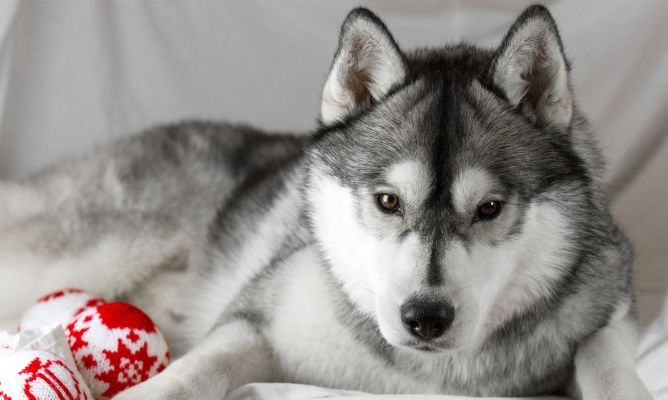husky: (270, 4, 613, 368)
